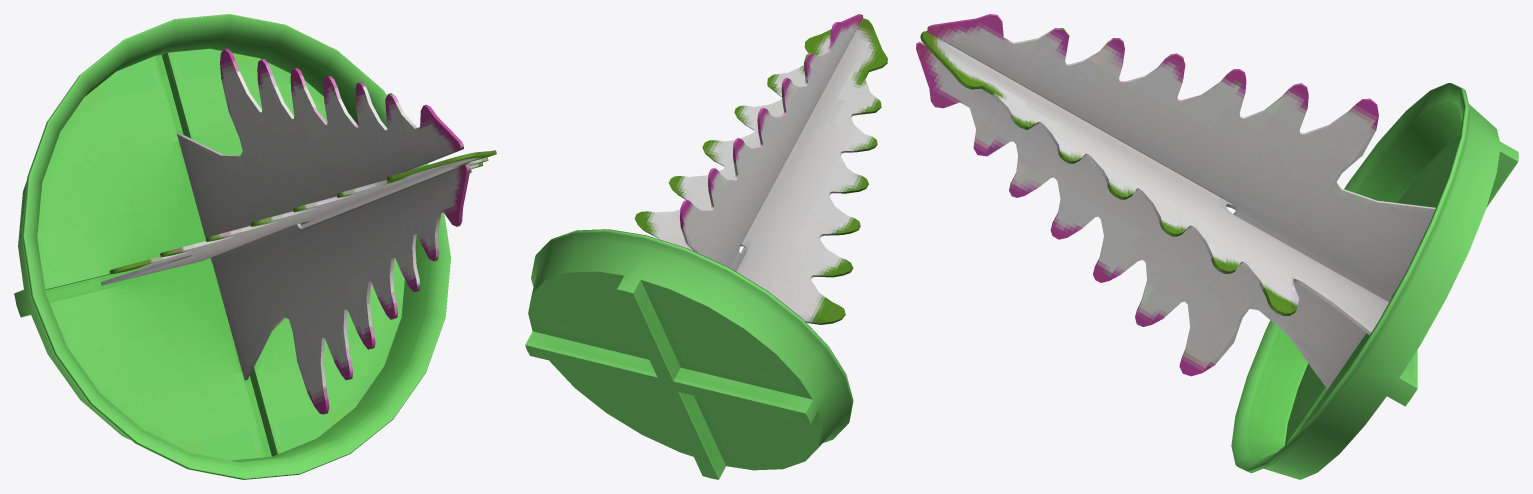
The model's file is ref_gtpapertree.fbx.
The picture shows the model from 3 angles, left to right: view 1: azimuth 30°, elevation 25°; view 2: azimuth 150°, elevation 25°; view 3: azimuth 270°, elevation 25°; orthographic projection. The views are drawn at different scales.
Parts seen in each view (by area): view 1: ref_gtpapertree; view 2: ref_gtpapertree; view 3: ref_gtpapertree.
Boxes of the visible parts, <box> form: ref_gtpapertree: <box>14,14,496,479</box>; ref_gtpapertree: <box>525,14,887,479</box>; ref_gtpapertree: <box>916,14,1518,479</box>.
Size of the model in its own units: 73.58 by 83.05 by 100.
Materials: 1 (1 with a texture image).
